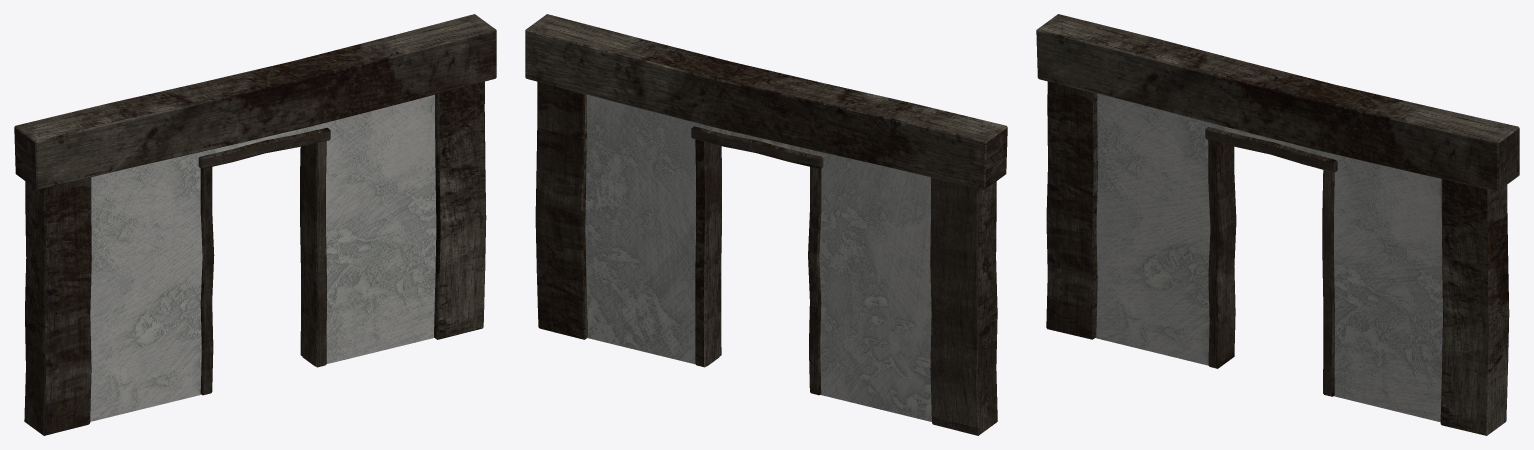
File: TudorDoorWall4.fbx
3 views of the same model, side by side, from view 1: azimuth 30°, elevation 25°; view 2: azimuth 150°, elevation 25°; view 3: azimuth 330°, elevation 25° (orthographic).
Parts seen in each view (by area): view 1: White Wall Door 3m; view 2: White Wall Door 3m; view 3: White Wall Door 3m.
Boxes of the visible parts, x1=… form: White Wall Door 3m: x1=14, y1=14, x2=496, y2=435; White Wall Door 3m: x1=525, y1=14, x2=1007, y2=435; White Wall Door 3m: x1=1036, y1=14, x2=1519, y2=435.
Bounding box in the file's own units: 390 × 240 × 32.24.
